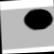correct: (21, 7, 54, 33)
